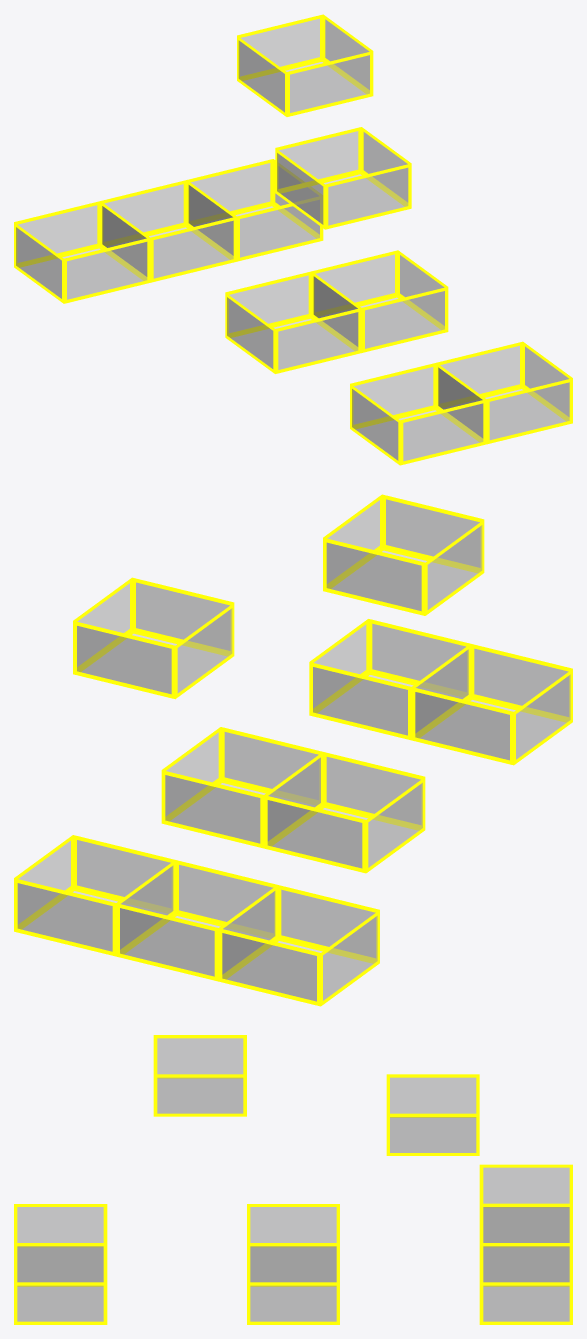
File: (1)M GPlat.fbx
3 views of the same model, one above another, from view 1: azimuth 30°, elevation 25°; view 2: azimuth 150°, elevation 25°; view 3: azimuth 270°, elevation 25° (orthographic). The views are drawn at different scales.
Visible parts, largest first — view 1: Platform.012, Platform.010, Platform.002, Platform.004, Platform.009, Platform.006, Platform.003, Platform.005, Platform.007; view 2: Platform.012, Platform.010, Platform.002, Platform.004, Platform.009, Platform.006, Platform.005, Platform.003, Platform.007; view 3: Platform.010, Platform.012, Platform.003, Platform.007, Platform.005, Platform.002, Platform.006, Platform.004, Platform.009.
Boxes of the visible parts, box(x1,y1,x2,y2) form: Platform.012: box(275, 127, 411, 229); Platform.010: box(237, 14, 373, 116); Platform.002: box(350, 362, 486, 465); Platform.004: box(225, 271, 361, 373); Platform.009: box(14, 201, 150, 303); Platform.006: box(100, 180, 236, 282); Platform.003: box(436, 341, 572, 444); Platform.005: box(311, 250, 448, 352); Platform.007: box(187, 159, 323, 261); Platform.012: box(323, 494, 484, 615); Platform.010: box(73, 577, 234, 699); Platform.002: box(411, 644, 572, 765); Platform.004: box(264, 752, 425, 873); Platform.009: box(218, 885, 379, 1006); Platform.006: box(116, 860, 277, 981); Platform.005: box(161, 727, 322, 848); Platform.003: box(309, 619, 470, 740); Platform.007: box(14, 835, 175, 956); Platform.010: box(386, 1074, 479, 1155); Platform.012: box(153, 1035, 246, 1116); Platform.003: box(14, 1243, 107, 1324); Platform.007: box(479, 1243, 572, 1324); Platform.005: box(247, 1243, 339, 1324); Platform.002: box(14, 1204, 107, 1282); Platform.006: box(479, 1204, 572, 1282); Platform.004: box(247, 1204, 339, 1282); Platform.009: box(479, 1164, 572, 1243).
Bounding box in the file's own units: 600 × 500 × 1200.
